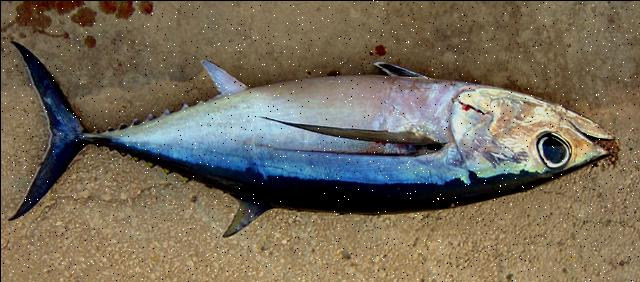Mulut: (554, 100, 626, 174)
Sirip Anal: (193, 50, 253, 104)
Sirip Dada: (241, 105, 453, 169)
Sirip Ekor: (0, 32, 124, 228)
Sirip Perut: (359, 49, 436, 89)
Sirip Punggung: (216, 179, 288, 245)
